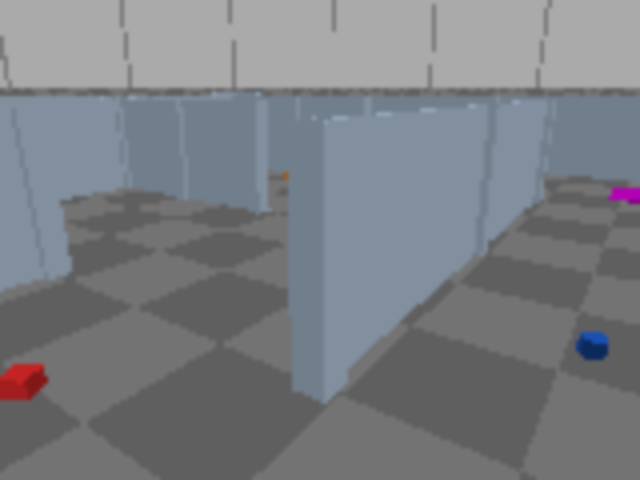goal_zone: (608, 186, 638, 210)
puck: (0, 364, 48, 401), (577, 332, 609, 359)
